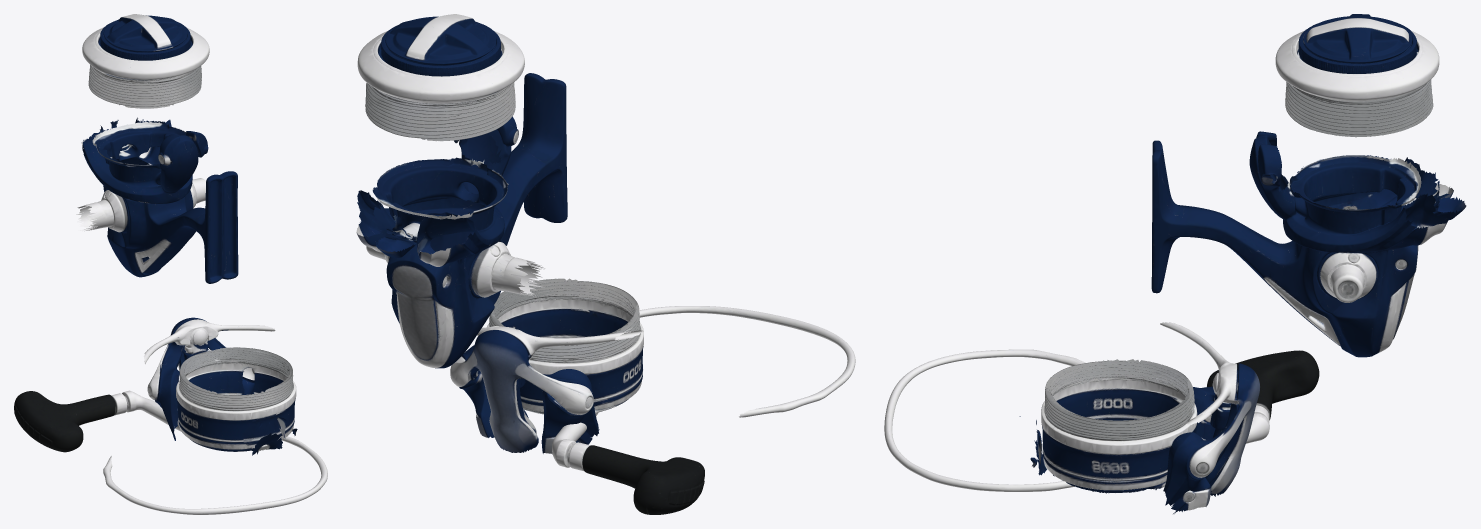
File: big_ironwood.glb
3 renders of one model, left to right at view 1: azimuth 30°, elevation 25°; view 2: azimuth 150°, elevation 25°; view 3: azimuth 270°, elevation 25°, orthographic. The views are drawn at different scales.
Visible parts, largest first — view 1: Body, Rotor, Crank, Bail; view 2: Body, Rotor, Crank, Bail; view 3: Body, Rotor, Crank, Bail.
Boxes of the visible parts, x1,y1,x2,y2 form: Body: [76, 14, 238, 283]; Rotor: [144, 317, 297, 455]; Crank: [14, 390, 181, 452]; Bail: [103, 436, 327, 514]; Body: [356, 14, 567, 368]; Rotor: [450, 278, 643, 454]; Crank: [552, 412, 704, 514]; Bail: [639, 306, 855, 417]; Body: [1151, 14, 1466, 357]; Rotor: [1019, 322, 1259, 513]; Crank: [1207, 350, 1319, 443]; Bail: [884, 349, 1085, 491].
Size of the model in its own units: 0.1255 by 0.1905 by 0.2135.
Materials: 1 (1 with a texture image).
